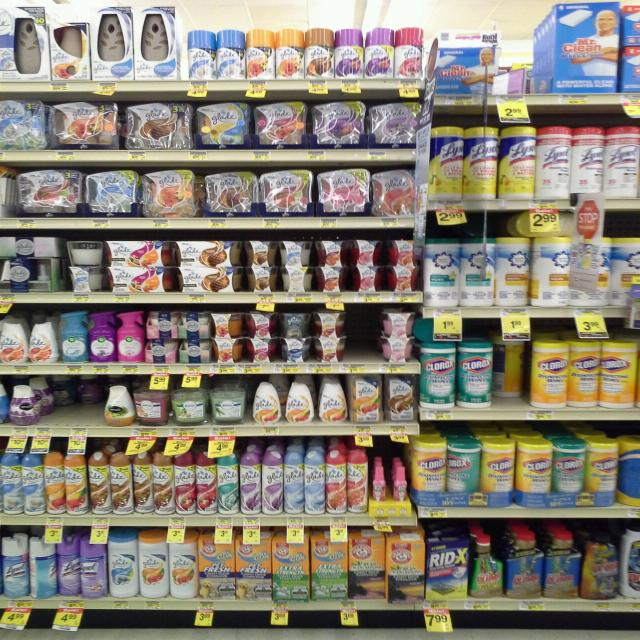unorganised: (531, 237, 572, 308), (492, 335, 529, 408), (447, 440, 479, 493), (29, 537, 55, 599), (80, 535, 106, 597), (348, 451, 367, 515)
